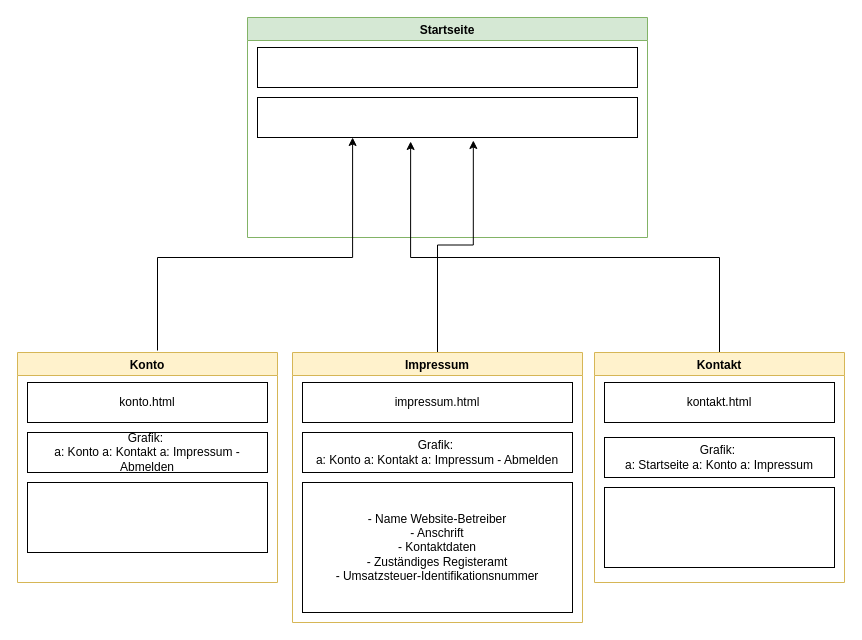
The diagram is 862 pixels wide and 640 high, and some of its shapes have lost their labels. Here are the shapes that lost their labels. From the top down, the box of each, then its label:
(256, 46, 638, 88): index.html
(256, 96, 638, 138): Grafik: logo.gif a: Konto a: Kontakt a: Impressum - Abmelden
(26, 482, 268, 552): -Unternehmen -Adresse -Ansprechpartner
(604, 486, 834, 568): - Vor-/Nachname - Telefonnummer - Bild - E-Mailadresse
